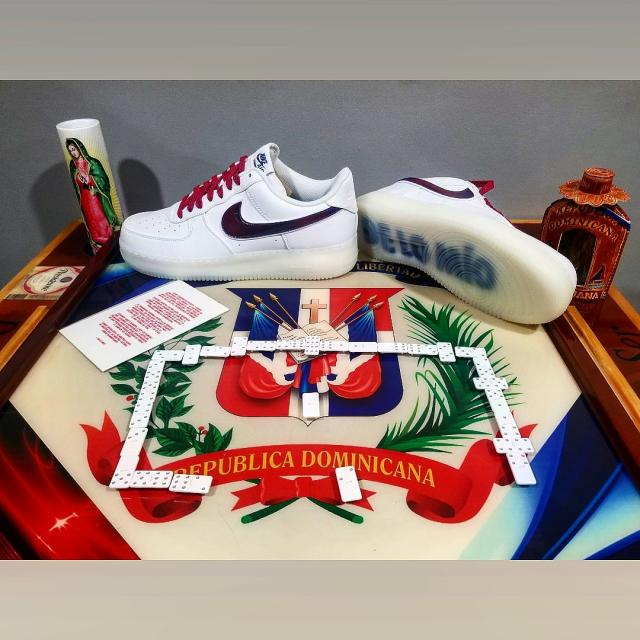shoe: (349, 163, 593, 340), (116, 138, 362, 302)
